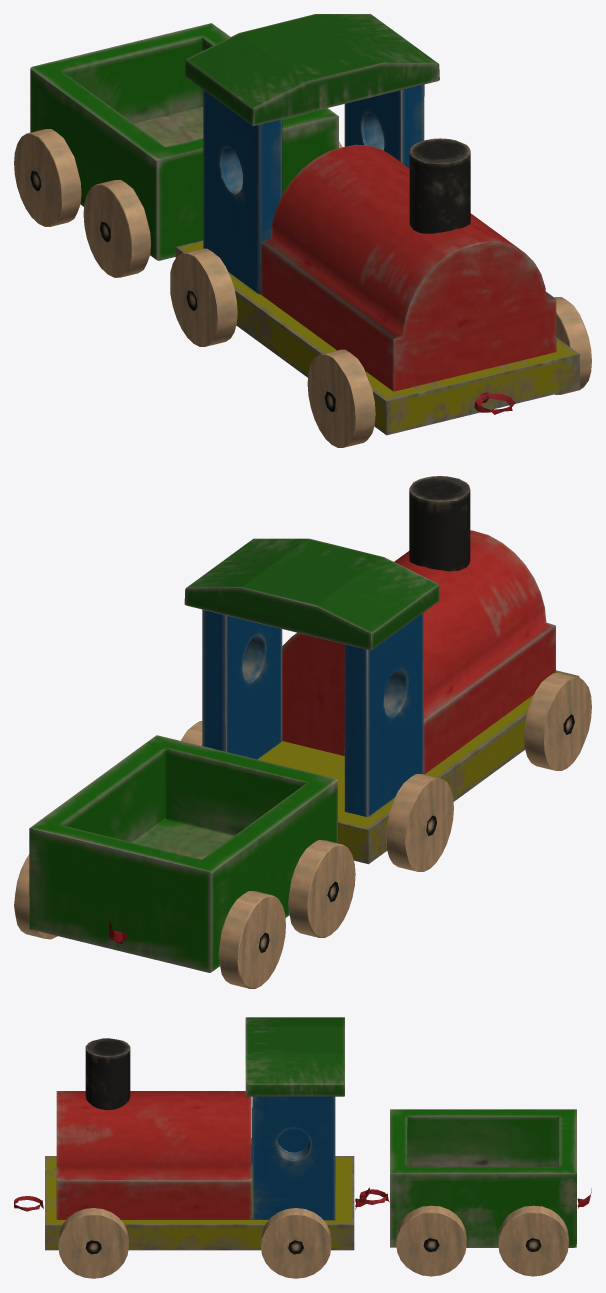
File: toy_train.glb
3 renders of one model, top to bottom at view 1: azimuth 30°, elevation 25°; view 2: azimuth 150°, elevation 25°; view 3: azimuth 270°, elevation 25°, orthographic. The views are drawn at different scales.
Parts seen in each view (by area): view 1: mesh; view 2: mesh; view 3: mesh.
Boxes of the visible parts, x1,y1,x2,y2 form: mesh: (14, 14, 591, 447); mesh: (14, 476, 591, 988); mesh: (14, 1017, 591, 1278).
Bounding box in the file's own units: 0.1124 × 0.12 × 0.32.
Materials: 1 (1 with a texture image).
